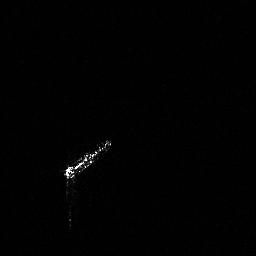ship: (60, 134, 115, 186)
